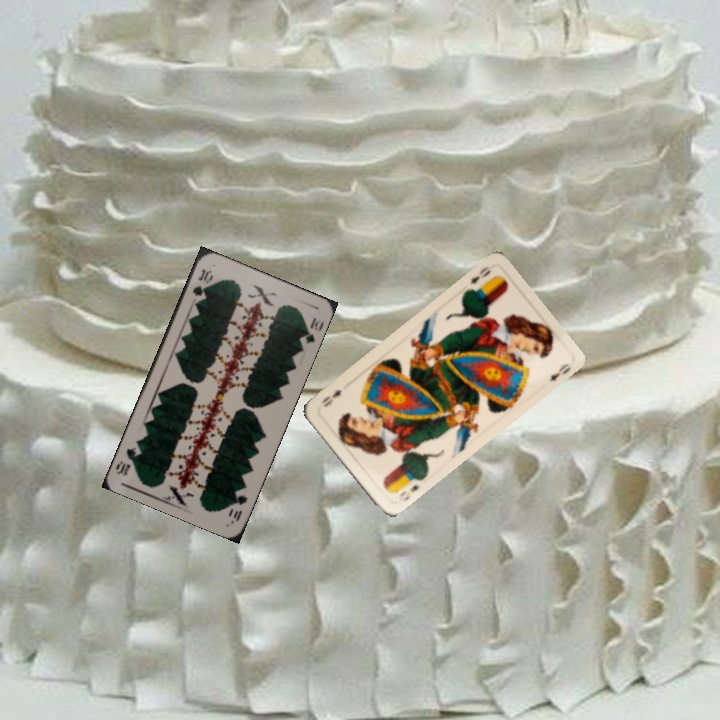EO: (466, 262, 494, 287), (394, 480, 422, 504)
G10: (188, 265, 214, 299), (228, 490, 250, 524)
